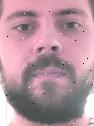without_mask: (1, 1, 94, 126)
